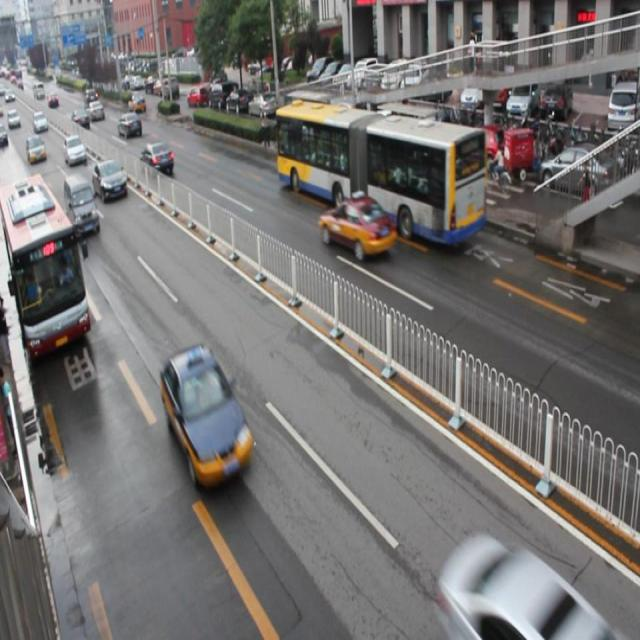car: (160, 344, 253, 490), (318, 193, 397, 263), (93, 160, 128, 203), (141, 141, 174, 174), (117, 113, 143, 136)
truck: (64, 174, 100, 237)
van: (275, 97, 486, 249), (1, 176, 91, 363)
